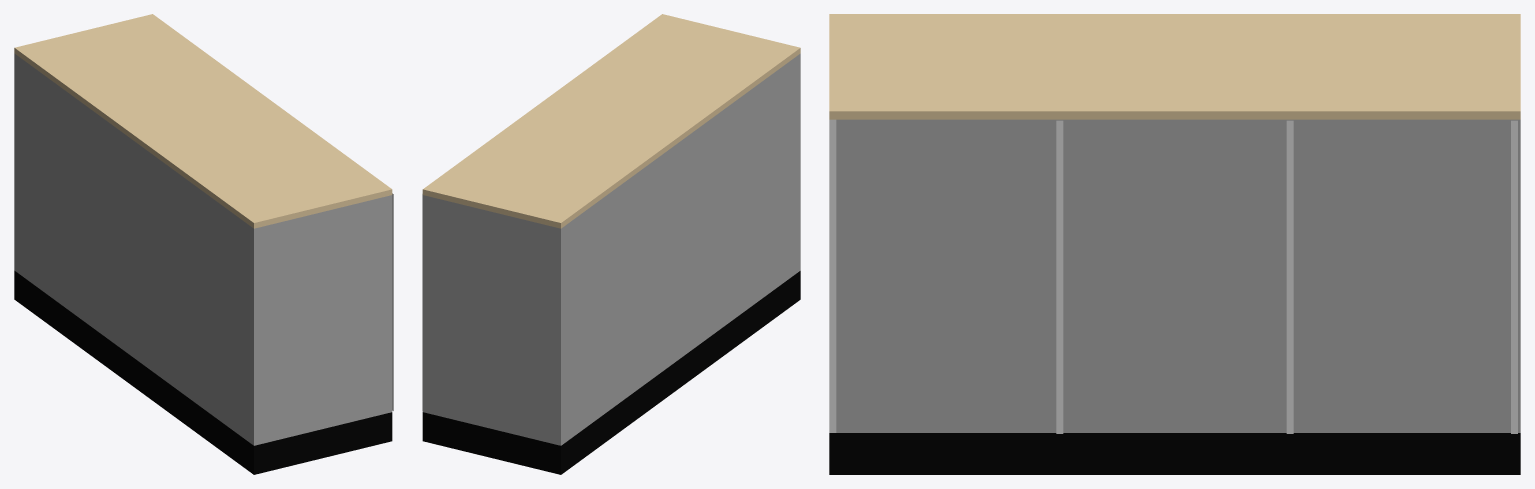
The model's file is CounterSection.dae.
The picture shows the model from 3 angles, left to right: view 1: azimuth 30°, elevation 25°; view 2: azimuth 150°, elevation 25°; view 3: azimuth 270°, elevation 25°; orthographic projection. The views are drawn at different scales.
Parts seen in each view (by area): view 1: Countertop; view 2: Countertop; view 3: Countertop.
Part boxes in pixels (x1,y1,x2,y2): Countertop: [14, 14, 393, 474]; Countertop: [422, 14, 800, 474]; Countertop: [829, 14, 1520, 474].
Size of the model in its own units: 2.02 by 6 by 3.48.
